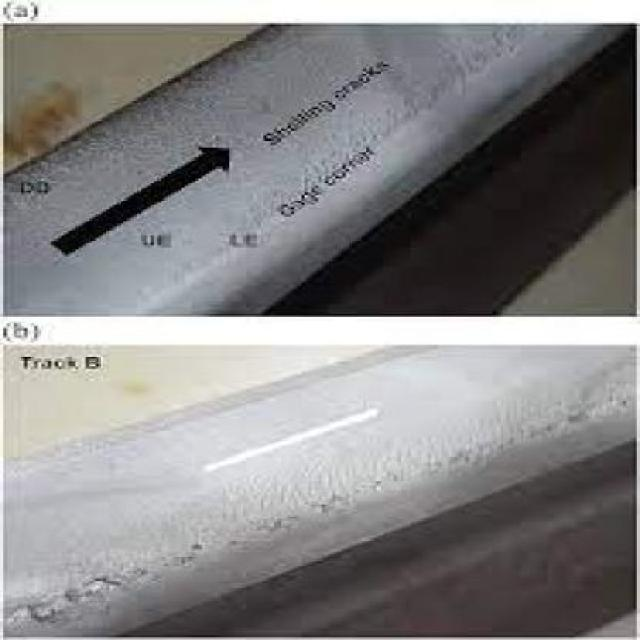non-defective: (6, 23, 640, 638)
